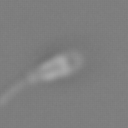normal: (1, 71, 37, 106)
